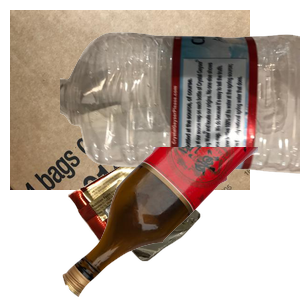cardboard: (10, 10, 250, 190)
glass: (60, 147, 300, 300)
plastic: (60, 30, 300, 196)
trash: (65, 148, 258, 300)
